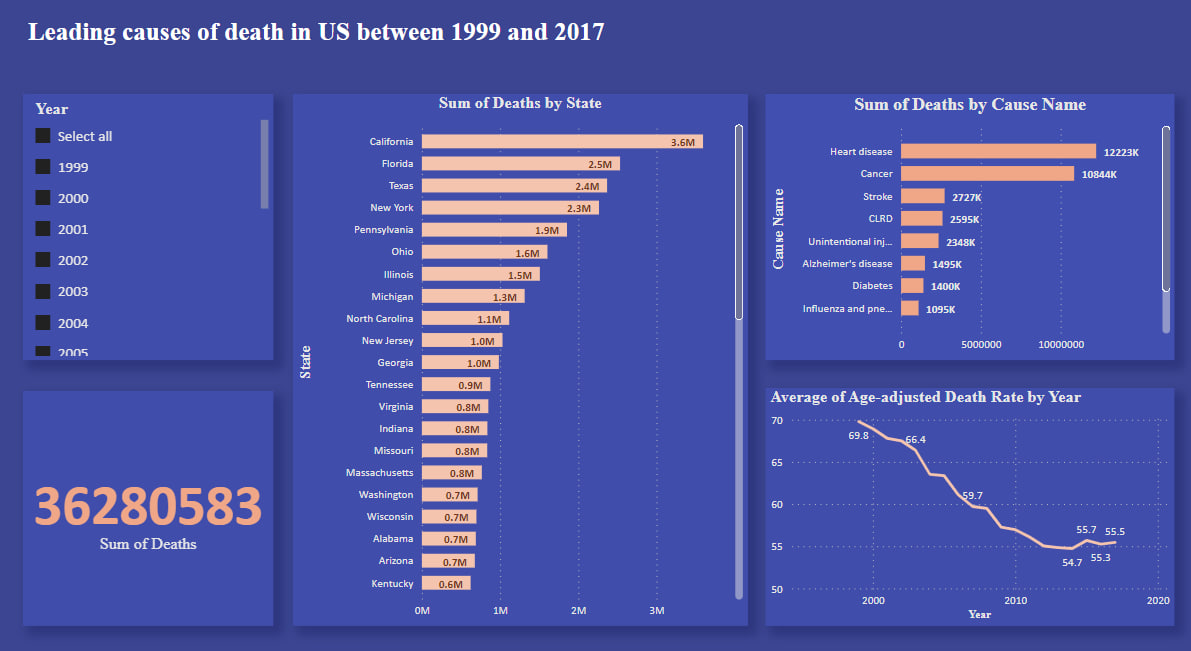

The page's visual inventory and layout, read from the dashboard file:
{"tool":"powerbi","page":{"name":"Page 1","canvas":[1280,720],"ordinal":0},"visuals":[{"type":"shape","box":[0,0,1280,720],"z":0},{"type":"textbox","box":[31.7,20,845,63.3],"z":1000},{"type":"clusteredBarChart","fields":{"Category":["causes-of-death.State"],"Y":["Sum(causes-of-death.Deaths)"]},"box":[318.3,108.3,481.7,563.3],"z":2000},{"type":"slicer","fields":{"Values":["causes-of-death.Year"]},"box":[31.7,108.3,265,281.7],"z":3000},{"type":"card","fields":{"Values":["Sum(causes-of-death.Deaths)"]},"box":[31.7,423.3,265,248.3],"z":4000},{"type":"clusteredBarChart","fields":{"Category":["causes-of-death.Cause Name"],"Y":["Sum(causes-of-death.Deaths)"]},"box":[818.3,108.3,433.3,281.7],"z":5000},{"type":"lineChart","title":"Average of Age-adjusted Death Rate by Year","fields":{"Y":["Avg(causes-of-death.Age-adjusted Death Rate)"],"Category":["causes-of-death.Year"]},"box":[818.3,420,433.3,251.7],"z":5001}]}

Visuals, with their boxes in screenshot pixels (x1, y1, x2, y2), scaled from the page's 1280x720 canvas onto the 1191x651 screenshot:
shape: bbox(0, 0, 1190, 650)
textbox: bbox(29, 18, 816, 75)
clusteredBarChart - causes-of-death.State x Sum(causes-of-death.Deaths): bbox(296, 98, 744, 607)
slicer - causes-of-death.Year: bbox(29, 98, 276, 353)
card - Sum(causes-of-death.Deaths): bbox(29, 383, 276, 607)
clusteredBarChart - causes-of-death.Cause Name x Sum(causes-of-death.Deaths): bbox(761, 98, 1165, 353)
"Average of Age-adjusted Death Rate by Year" lineChart: bbox(761, 380, 1165, 607)
